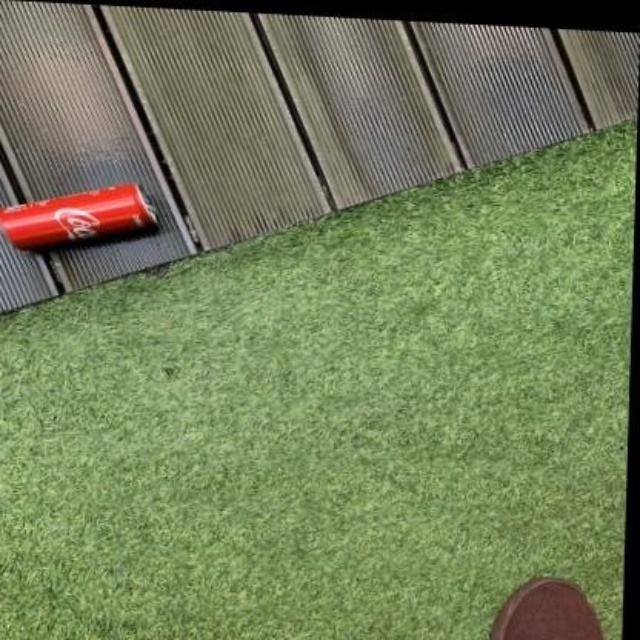trash: (0, 183, 155, 248)
